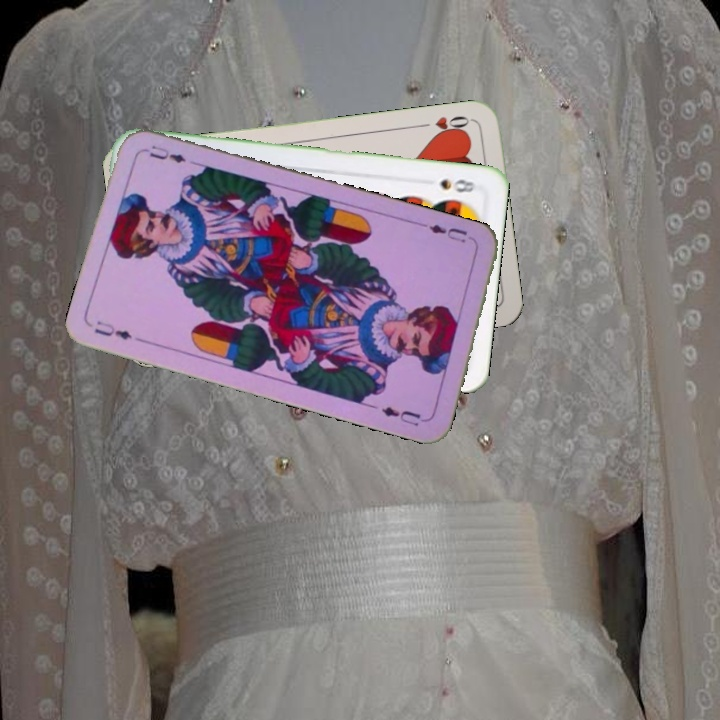EU: (90, 316, 135, 343), (425, 220, 470, 246)
HO: (415, 111, 474, 139)
S8: (436, 175, 479, 196)
